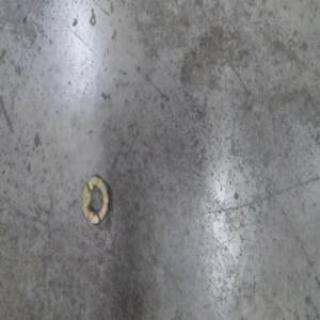Nuttrack_idkeyframe: (80, 173, 110, 225)
